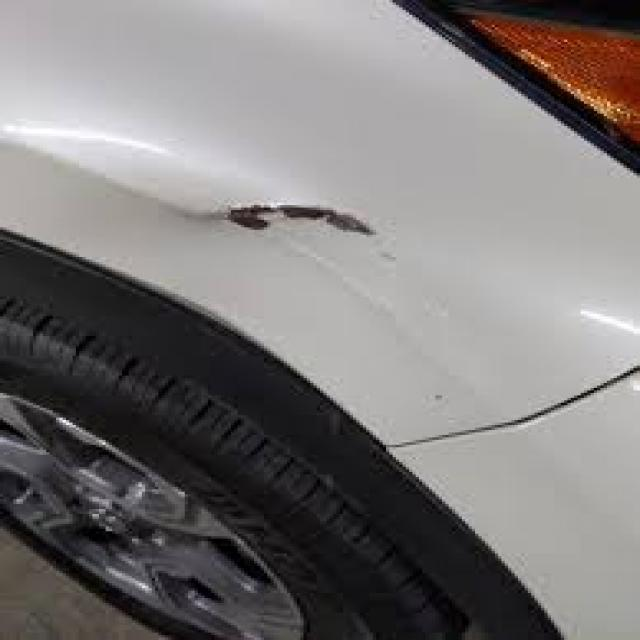dent-or-scratch: (159, 180, 386, 247)
